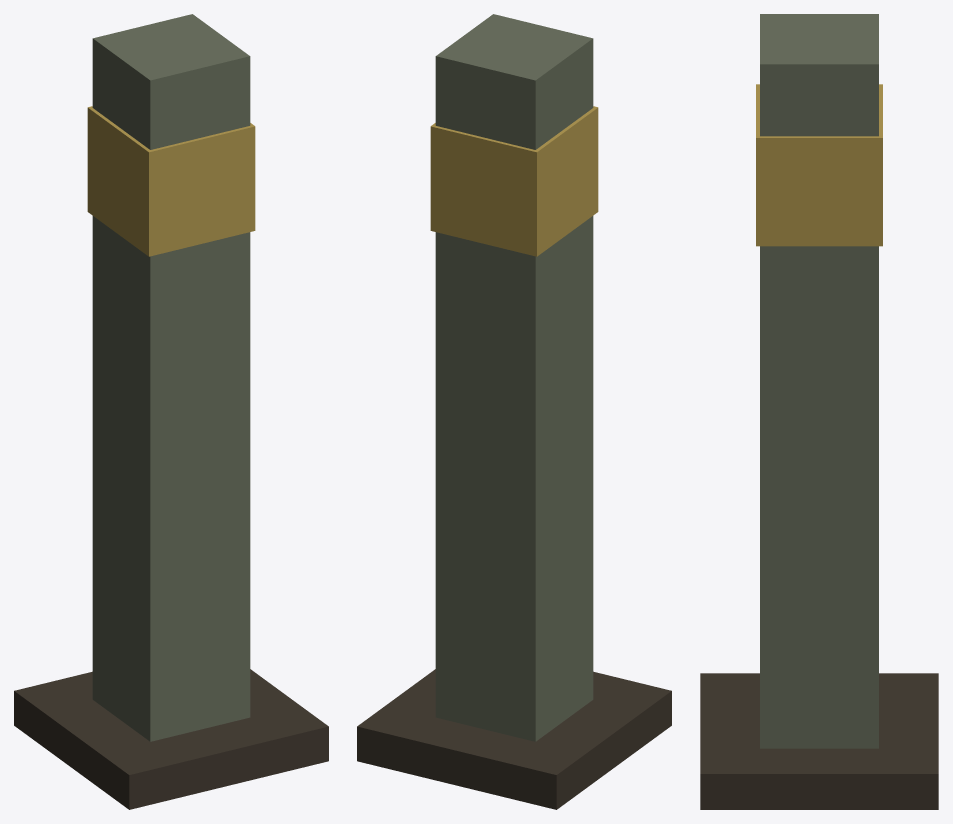
Rendered from street_bollard.gltf.
The picture shows the model from 3 angles, left to right: view 1: azimuth 30°, elevation 25°; view 2: azimuth 150°, elevation 25°; view 3: azimuth 270°, elevation 25°; orthographic projection. The views are drawn at different scales.
Parts seen in each view (by area): view 1: post, base, reflector; view 2: post, base, reflector; view 3: post, base, reflector.
Part boxes in pixels (x1,y1,x2,y2): post: (92,14,250,741); base: (14,669,328,809); reflector: (87,106,255,256); post: (435,14,593,741); base: (357,669,671,809); reflector: (430,106,598,256); post: (760,14,878,748); base: (700,673,938,809); reflector: (756,84,882,246).
Bounding box in the file's own units: 0.375 × 1.25 × 0.375.
Materials: 3 (3 with a texture image).
